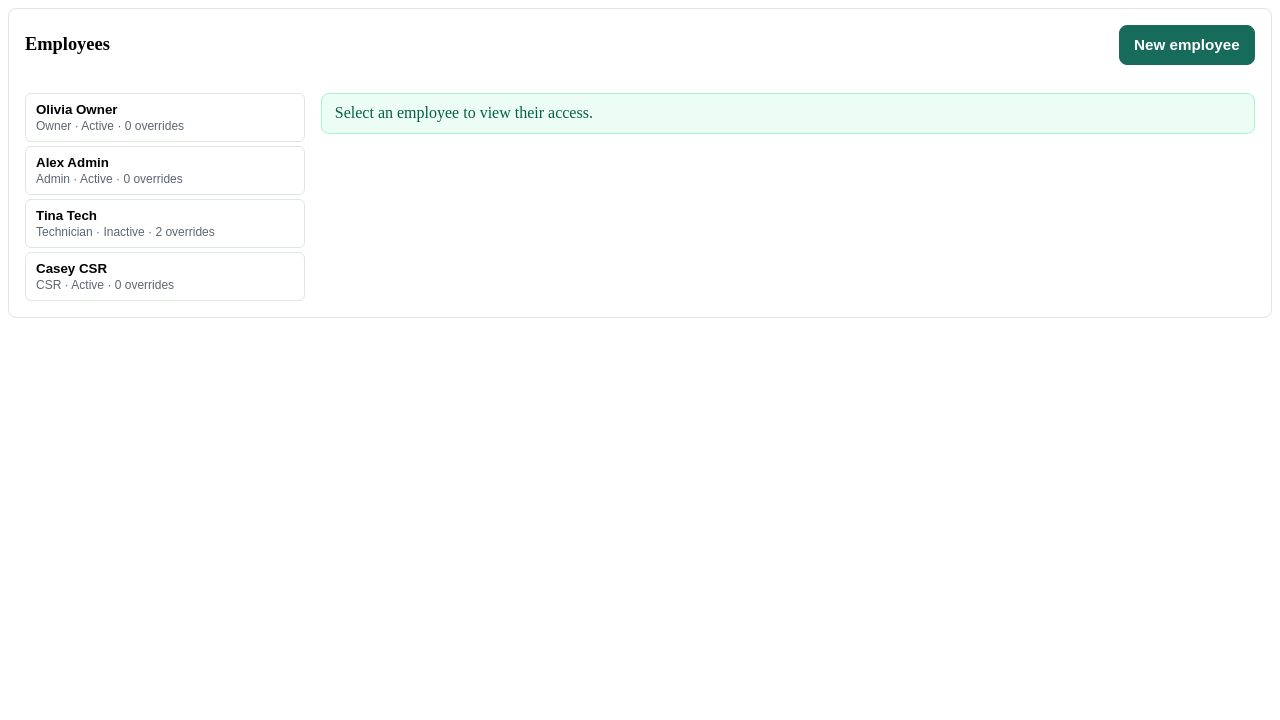
Scenario: OfficeEmployeeAccessSurface — gating › opens the create form with employeesPermissions:create
Step 1. Click the button "New employee" → {"x": 1187, "y": 45}, box x1=1119 y1=25 x2=1255 y2=65
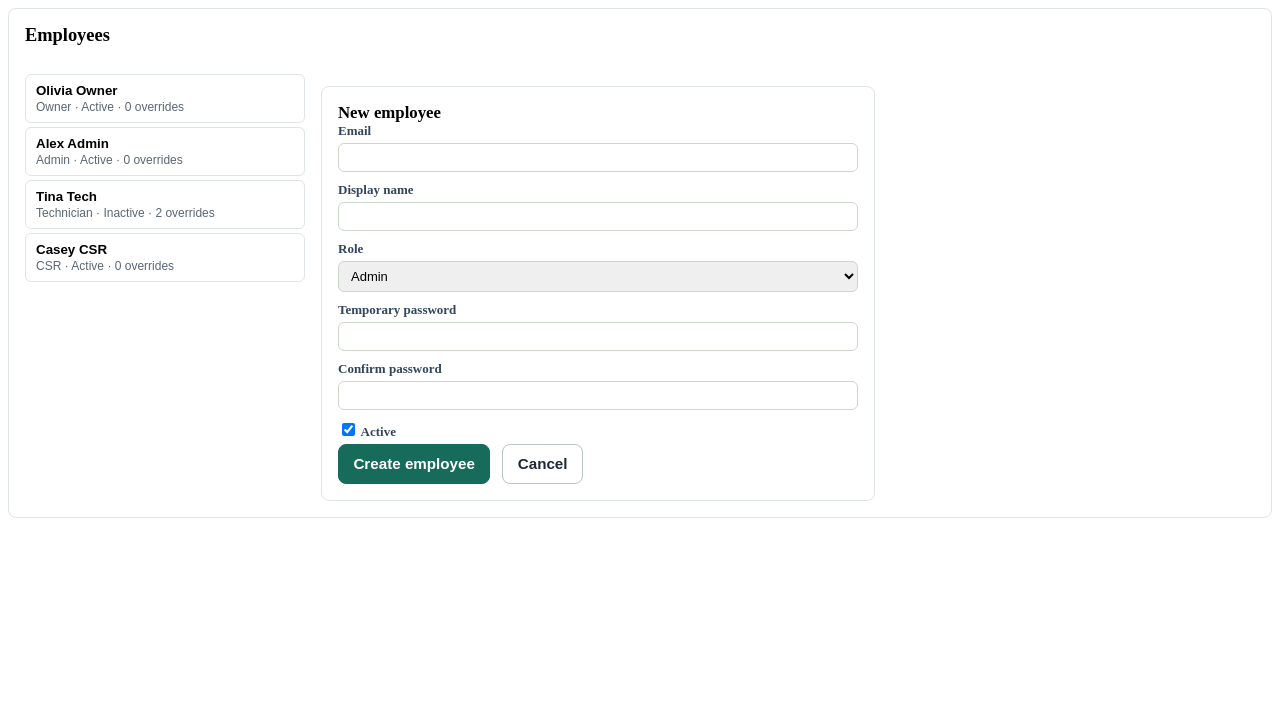
Result: the button "Create employee" is shown at x1=338 y1=444 x2=490 y2=484
